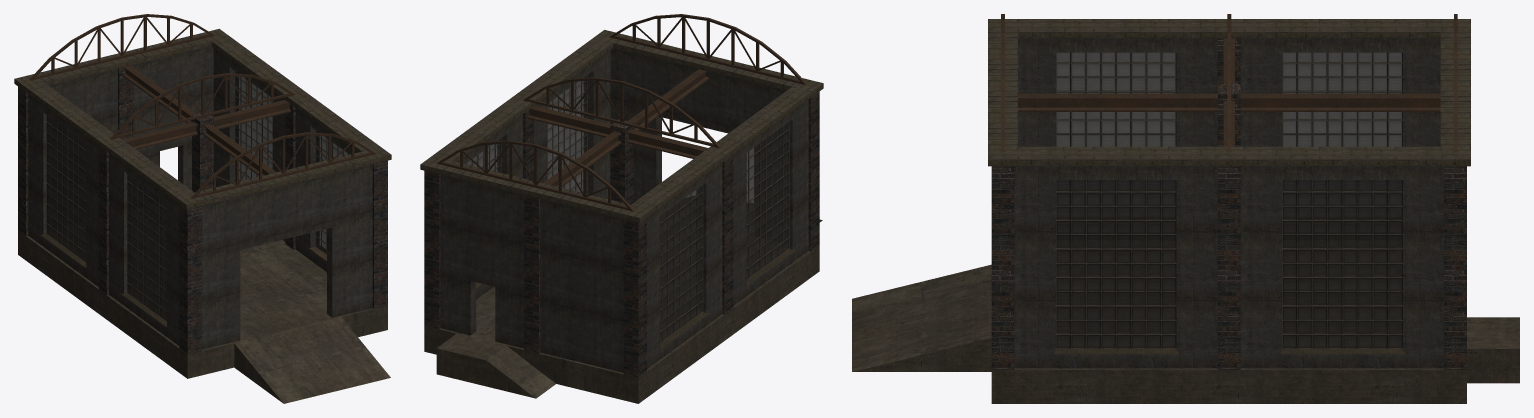
The model's file is warehouse_mx_3.obj.
3 views of the same model, side by side, from view 1: azimuth 30°, elevation 25°; view 2: azimuth 150°, elevation 25°; view 3: azimuth 270°, elevation 25° (orthographic). The views are drawn at different scales.
Visible parts, largest first — view 1: warehouse_mx_3; view 2: warehouse_mx_3; view 3: warehouse_mx_3.
Part boxes in pixels (x1,y1,x2,y2): warehouse_mx_3: [14, 14, 391, 403]; warehouse_mx_3: [420, 14, 823, 403]; warehouse_mx_3: [852, 14, 1519, 403].
Size of the model in its own units: 8.8 by 8.82 by 17.7.
